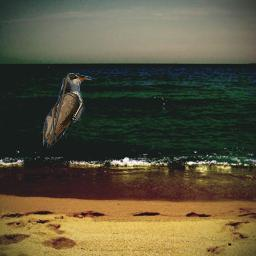Cuckoo: (43, 73, 103, 148)
